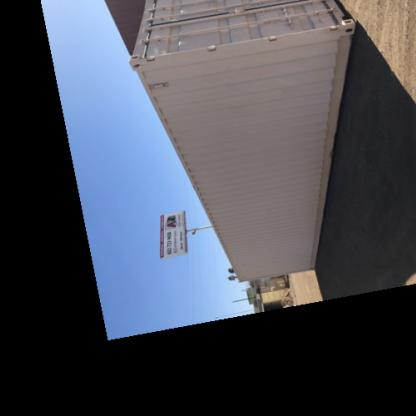Damage: (298, 135, 322, 170)
